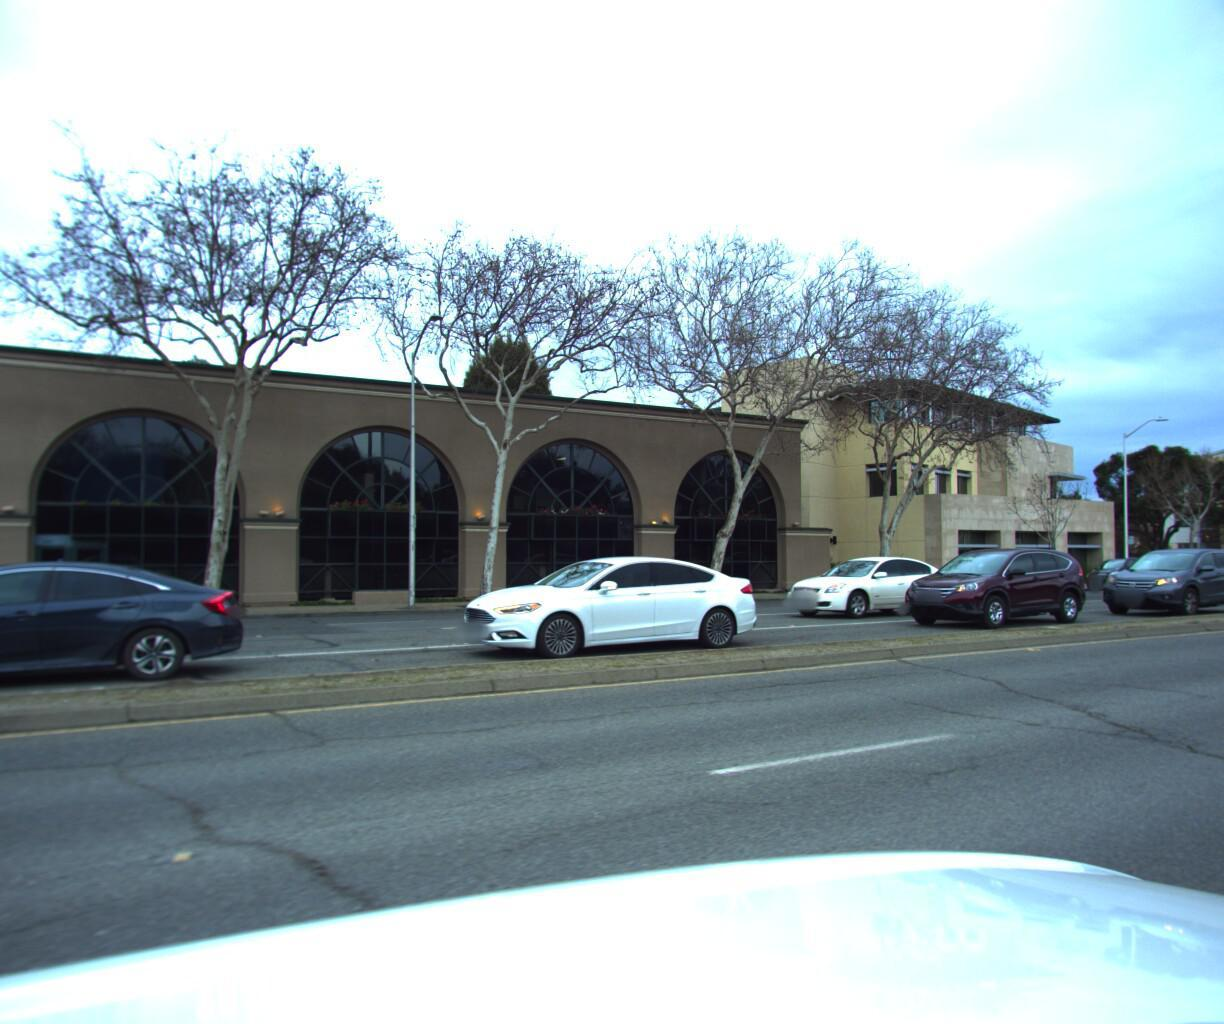car: (0, 556, 255, 716), (444, 549, 776, 665), (891, 540, 1098, 628), (782, 550, 962, 616), (1087, 540, 1224, 614), (1074, 549, 1153, 586)
